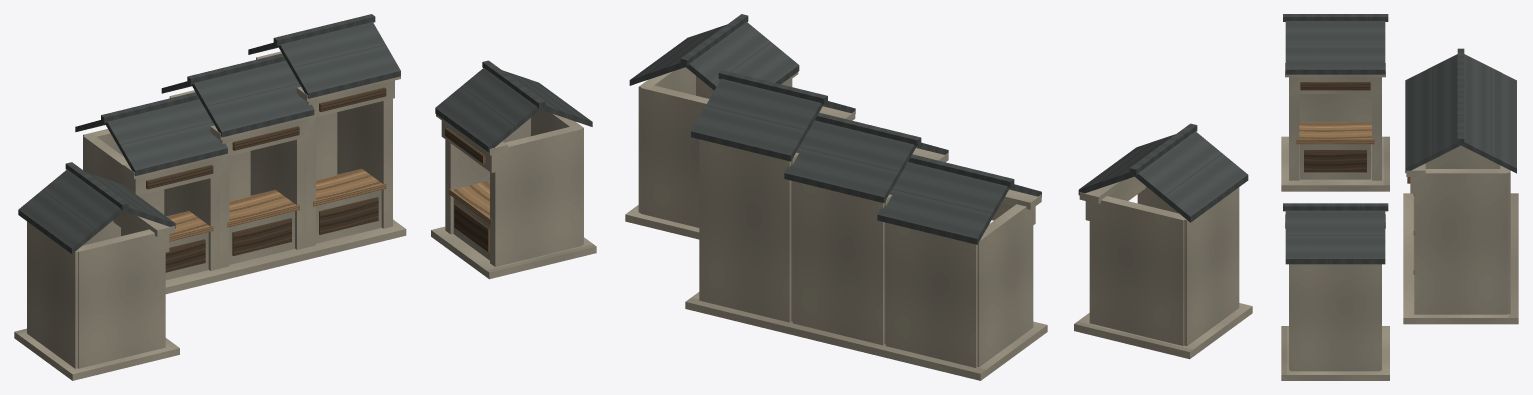
3 views of the same model, side by side, from view 1: azimuth 30°, elevation 25°; view 2: azimuth 150°, elevation 25°; view 3: azimuth 270°, elevation 25° (orthographic). The views are drawn at different scales.
Visible parts, largest first — view 1: akure; view 2: akure; view 3: akure.
Part boxes in pixels (box(x1,y1,x2,y2)): akure: box(14, 14, 596, 380); akure: box(625, 14, 1252, 380); akure: box(1281, 14, 1518, 380).
Bounding box in the file's own units: 6 × 2.17 × 2.53.
Materials: 1 (1 with a texture image).
